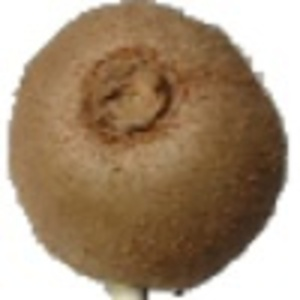kiwi: (6, 1, 289, 300)
